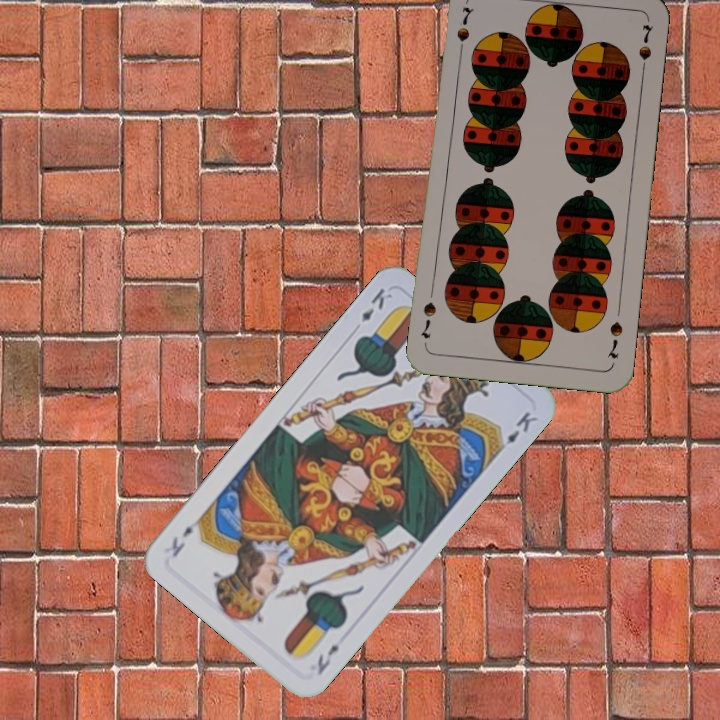EK: (357, 284, 395, 325), (313, 640, 342, 678)
S7: (452, 3, 475, 60), (603, 317, 626, 361)
